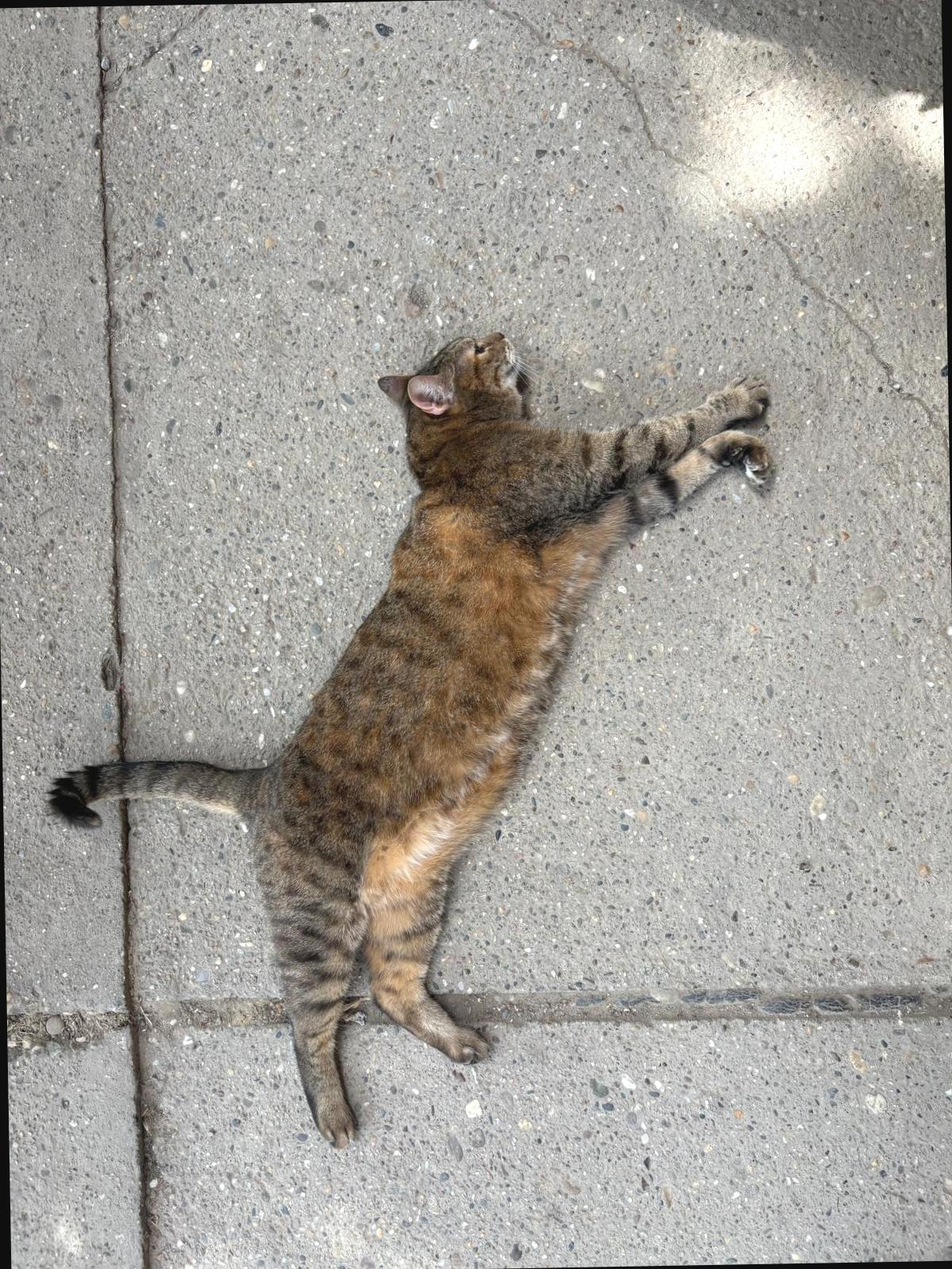macka: (37, 323, 783, 1145)
